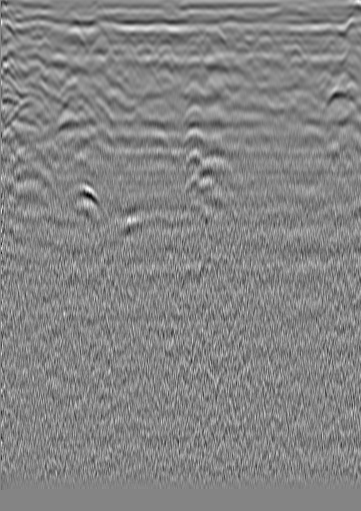가스: (63, 177, 102, 214)
상수: (323, 34, 343, 54)
오수: (11, 21, 31, 41)
우수: (186, 26, 206, 46)
